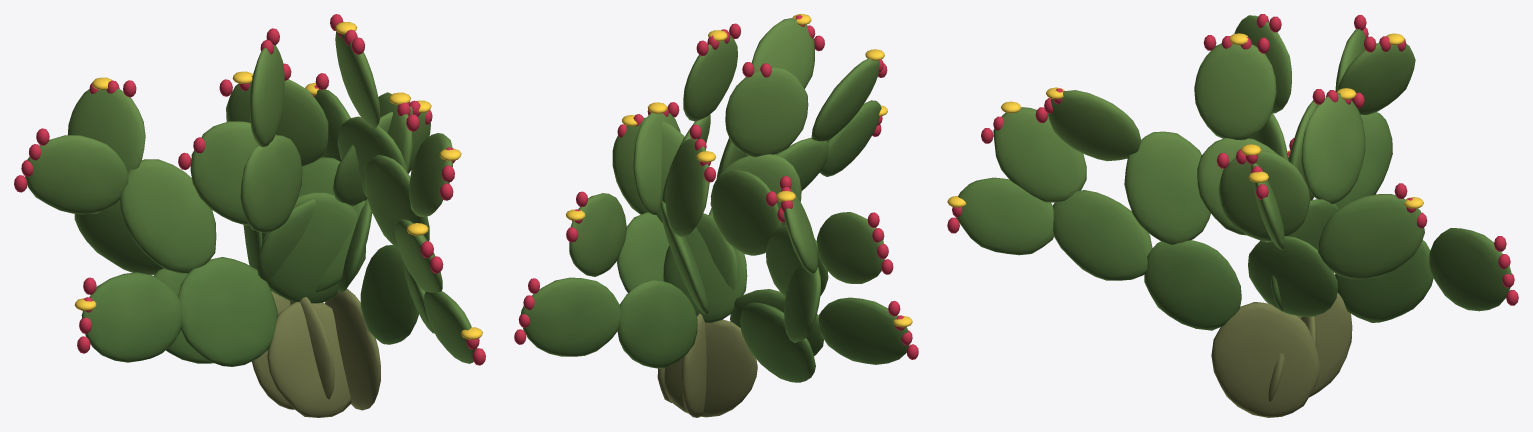
The model's file is barbary_fig.glb.
3 renders of one model, left to right at view 1: azimuth 30°, elevation 25°; view 2: azimuth 150°, elevation 25°; view 3: azimuth 270°, elevation 25°, orthographic. The views are drawn at different scales.
Visible parts, largest first — view 1: barbary_fig_pads, barbary_fig_old, barbary_fig_fruit, barbary_fig_flowers; view 2: barbary_fig_pads, barbary_fig_old, barbary_fig_fruit, barbary_fig_flowers; view 3: barbary_fig_pads, barbary_fig_old, barbary_fig_fruit, barbary_fig_flowers.
Boxes of the visible parts, x1,y1,x2,y2 form: barbary_fig_pads: (25,31,477,366); barbary_fig_old: (251,289,380,417); barbary_fig_fruit: (14,14,485,365); barbary_fig_flowers: (74,22,482,339); barbary_fig_pads: (521,18,908,382); barbary_fig_old: (657,313,757,417); barbary_fig_fruit: (514,15,918,359); barbary_fig_flowers: (565,14,912,327); barbary_fig_pads: (956,15,1511,330); barbary_fig_old: (1211,292,1352,417); barbary_fig_fruit: (947,14,1518,305); barbary_fig_flowers: (947,33,1423,208).
Size of the model in its own units: 3.34 by 3.56 by 4.92.
